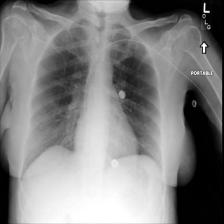normal: (19, 10, 169, 192)
